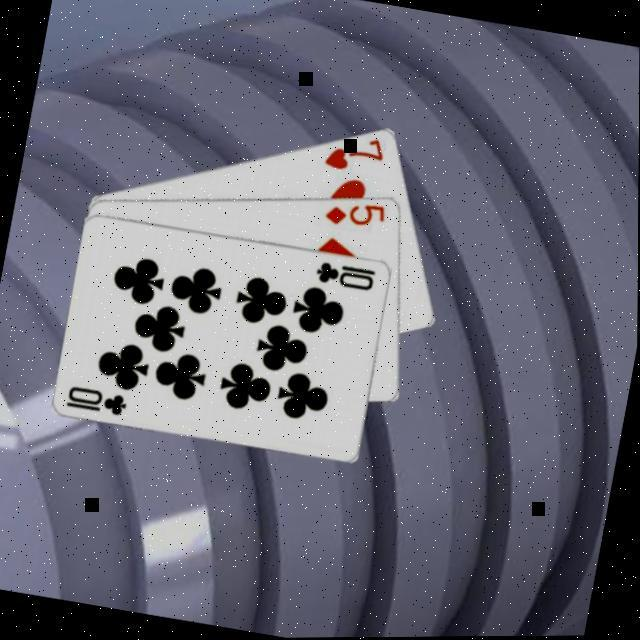10C: (63, 379, 131, 418), (311, 255, 379, 293)
5D: (320, 191, 389, 234)
7H: (319, 126, 389, 178)
